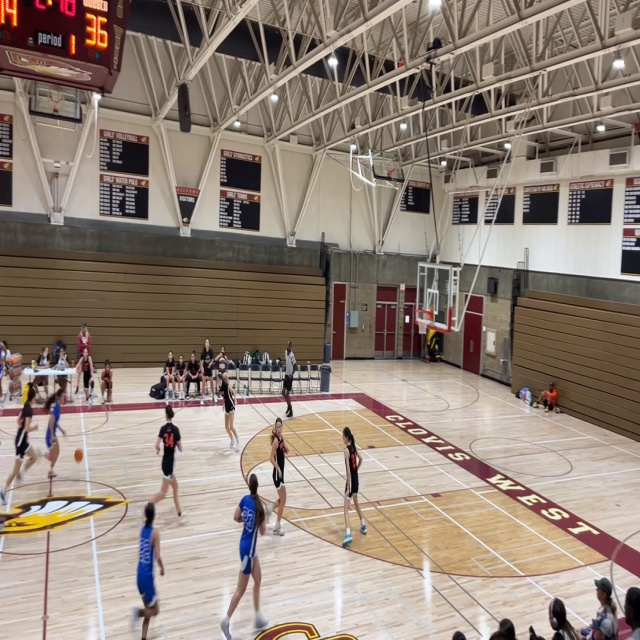Basketball: (74, 449, 83, 462)
